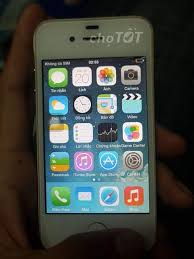iphone4: (29, 15, 159, 252)
